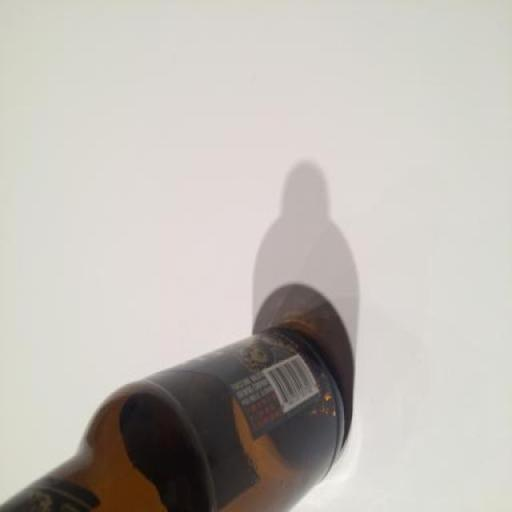glass: (0, 304, 379, 512)
